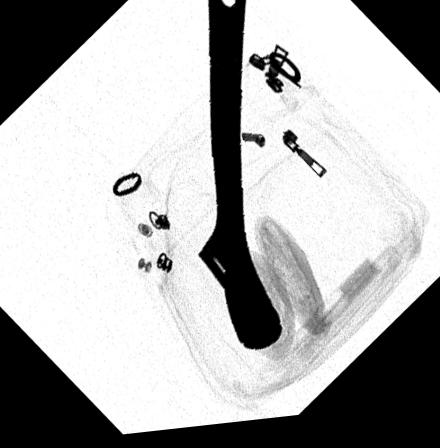Wrench: (195, 0, 285, 358)
